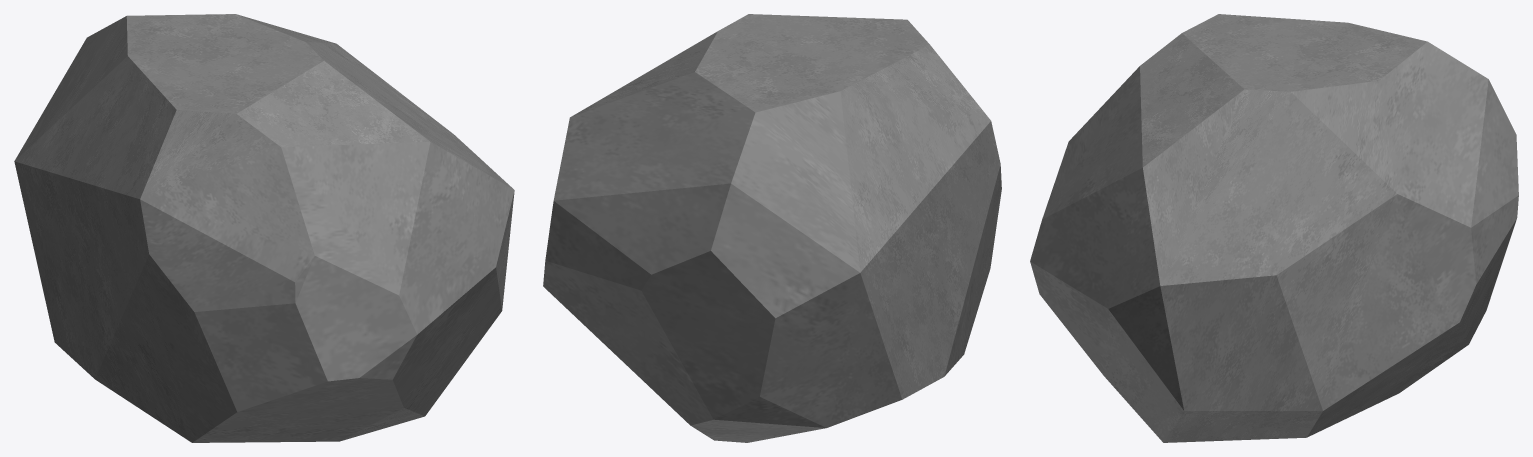
The model's file is Rock_6.glb.
The picture shows the model from 3 angles, left to right: view 1: azimuth 30°, elevation 25°; view 2: azimuth 150°, elevation 25°; view 3: azimuth 270°, elevation 25°; orthographic projection. The views are drawn at different scales.
Visible parts, largest first — view 1: Rock.012; view 2: Rock.012; view 3: Rock.012.
Part boxes in pixels (box(x1,y1,x2,y2)): Rock.012: box(14, 14, 514, 442); Rock.012: box(543, 14, 1001, 442); Rock.012: box(1030, 14, 1518, 442).
Size of the model in its own units: 1.26 by 1.18 by 1.56.
1 material, 1 textured.
